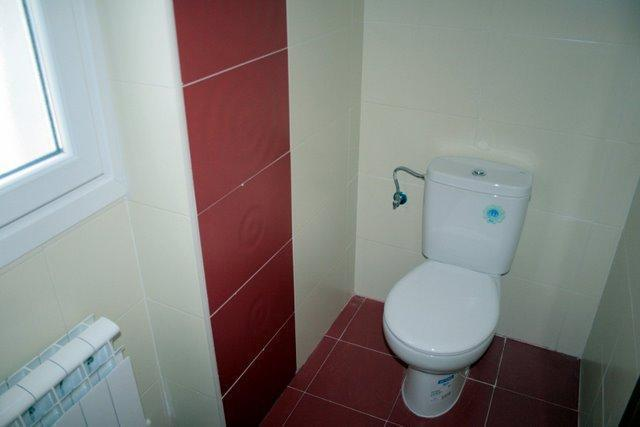Sanitario: (387, 154, 533, 426)
